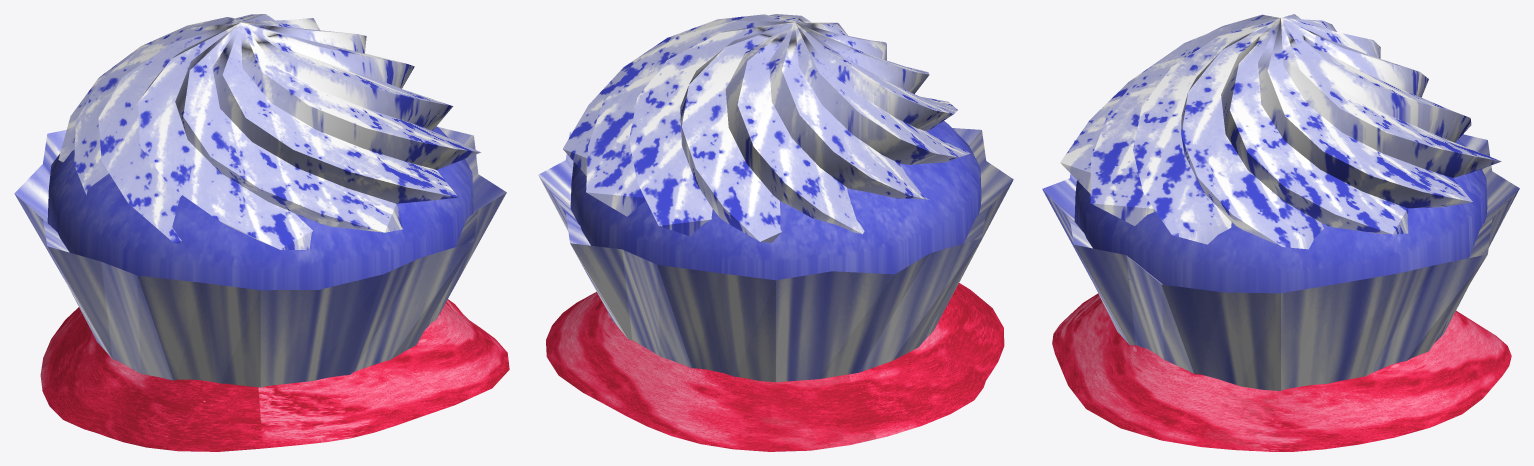
File: Flag-Goal.FBX
3 views of the same model, side by side, from view 1: azimuth 30°, elevation 25°; view 2: azimuth 150°, elevation 25°; view 3: azimuth 270°, elevation 25° (orthographic). The views are drawn at different scales.
Visible parts, largest first — view 1: Flag-Spawner-25; view 2: Flag-Spawner-25; view 3: Flag-Spawner-25.
Boxes of the visible parts, x1=… form: Flag-Spawner-25: x1=14, y1=14, x2=509, y2=451; Flag-Spawner-25: x1=538, y1=14, x2=1013, y2=451; Flag-Spawner-25: x1=1042, y1=14, x2=1519, y2=451.
Bounding box in the file's own units: 27.56 × 21.95 × 27.56.
